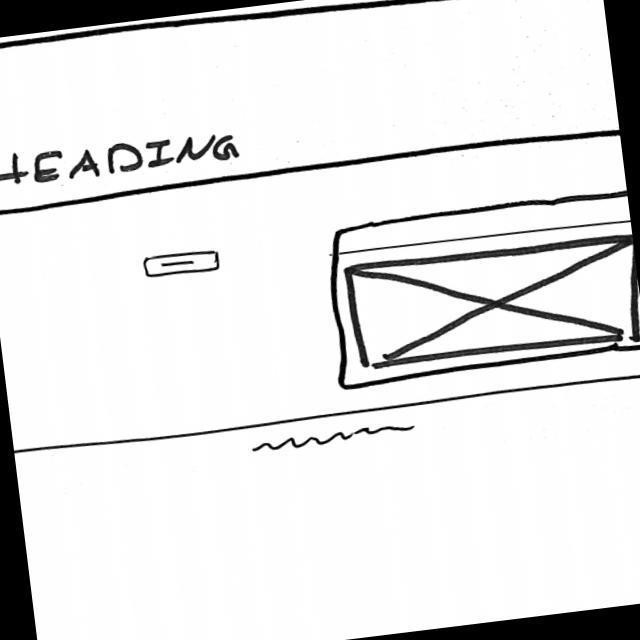container: (0, 0, 620, 215)
icon-button: (139, 245, 221, 282)
image: (342, 228, 640, 371)
label: (0, 122, 243, 192)
text: (248, 420, 418, 457)
